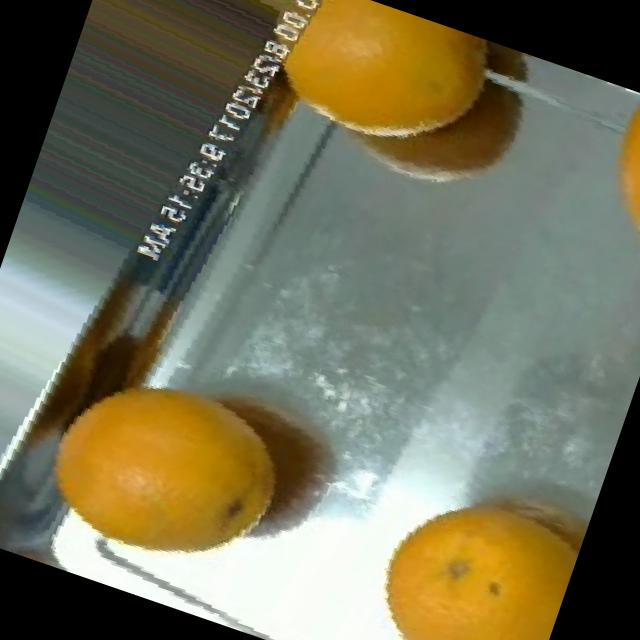Fruit: (0, 521, 104, 581)
